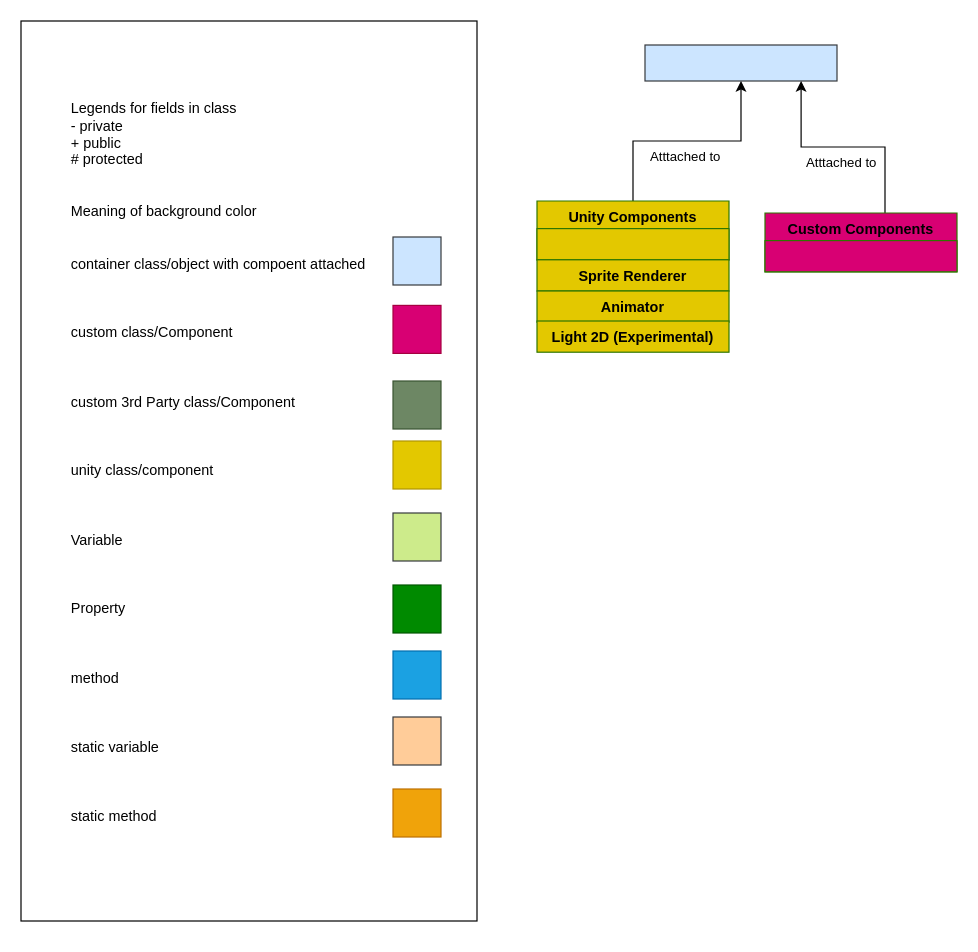
This 978x952 diagram has some shape labels left out. Here are the shapes that lost their labels. From the top down, the centre of each, then its label:
At point (740, 62): "HealthPotionPickUp".
At point (632, 243): "Transfrom".
At point (860, 255): "Pick Up Info".
